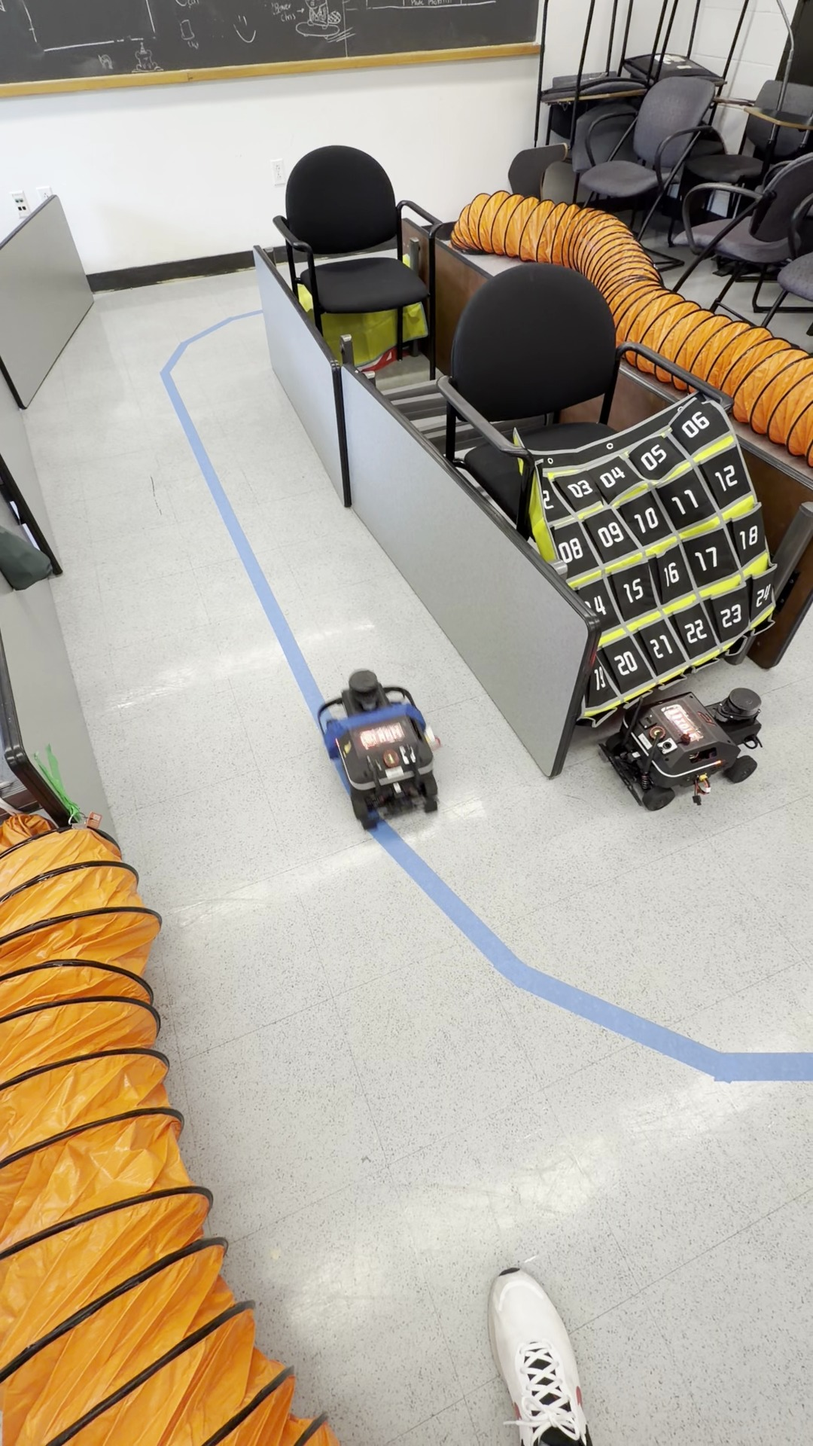racecar: (599, 683, 761, 810), (317, 667, 439, 827)
